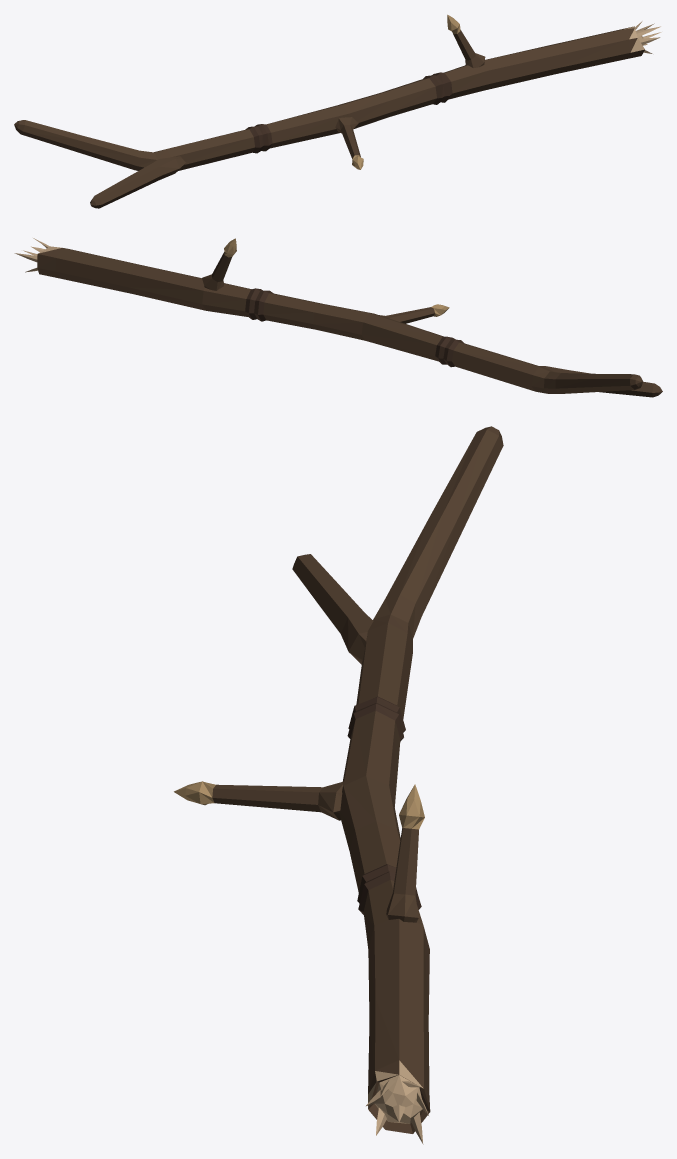
Rendered from fallen-twig-4c64de.glb.
The picture shows the model from 3 angles, top to bottom: view 1: azimuth 30°, elevation 25°; view 2: azimuth 150°, elevation 25°; view 3: azimuth 270°, elevation 25°; orthographic projection. The views are drawn at different scales.
Parts seen in each view (by area): view 1: twig-mesh; view 2: twig-mesh; view 3: twig-mesh.
Boxes of the visible parts, x1=… form: twig-mesh: x1=14, y1=14, x2=661, y2=208; twig-mesh: x1=14, y1=238, x2=662, y2=397; twig-mesh: x1=174, y1=426, x2=503, y2=1144.
Bounding box in the file's own units: 24.01 × 3.01 × 5.49.
